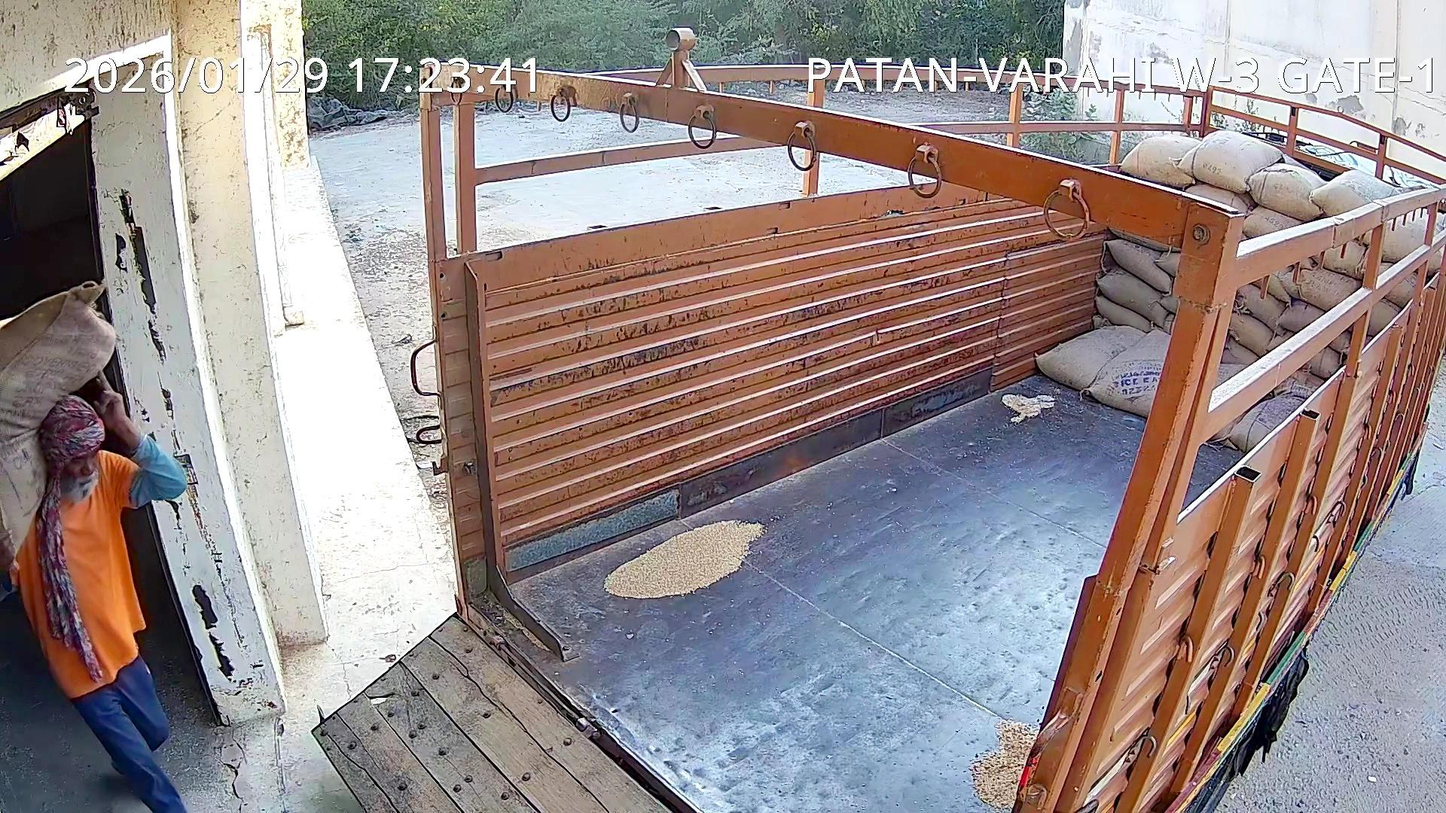Sack: (0, 282, 116, 554)
